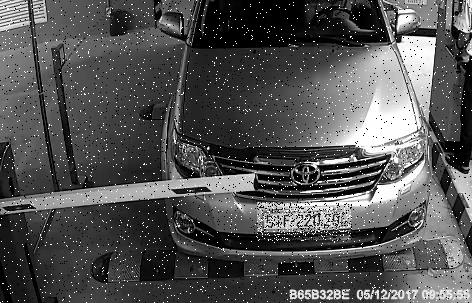License-plate: (259, 204, 354, 243)
